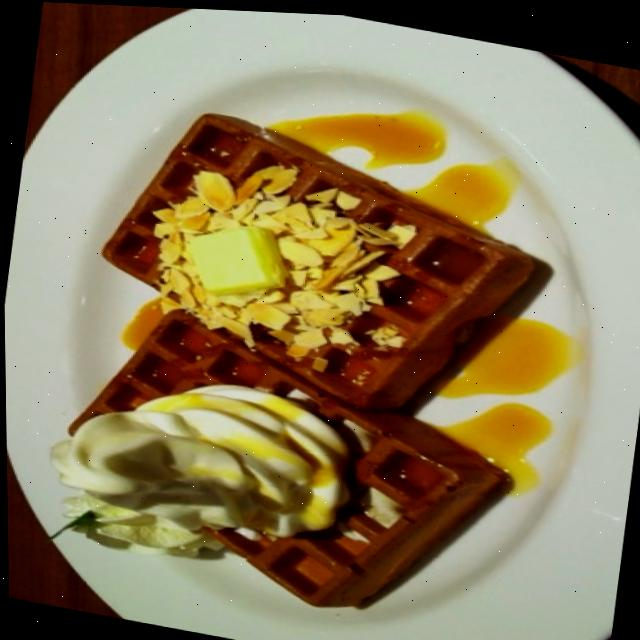蔬菜料理: (0, 0, 640, 573)
